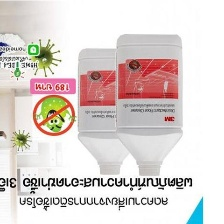cleaning_solution: (113, 29, 186, 178), (75, 44, 145, 176)
